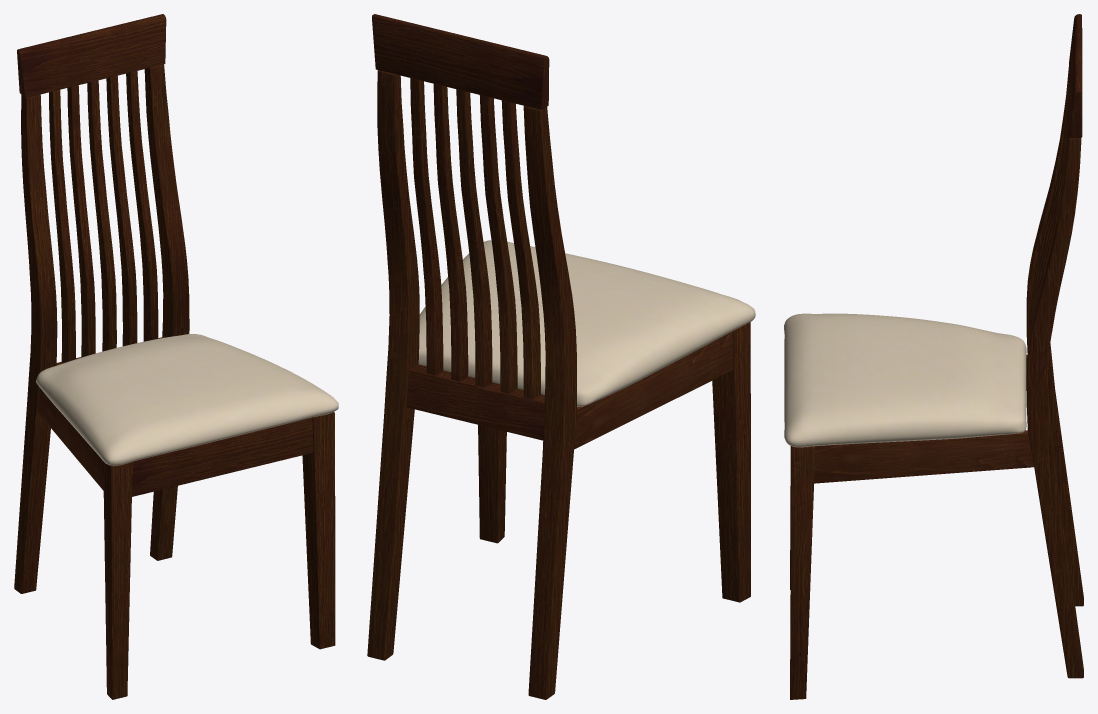
The model's file is abo-B07K7K8YF9.glb.
3 renders of one model, left to right at view 1: azimuth 30°, elevation 25°; view 2: azimuth 150°, elevation 25°; view 3: azimuth 270°, elevation 25°, orthographic. The views are drawn at different scales.
Bounding box in the file's own units: 0.46 × 1.03 × 0.474.
1 material, 1 textured.
